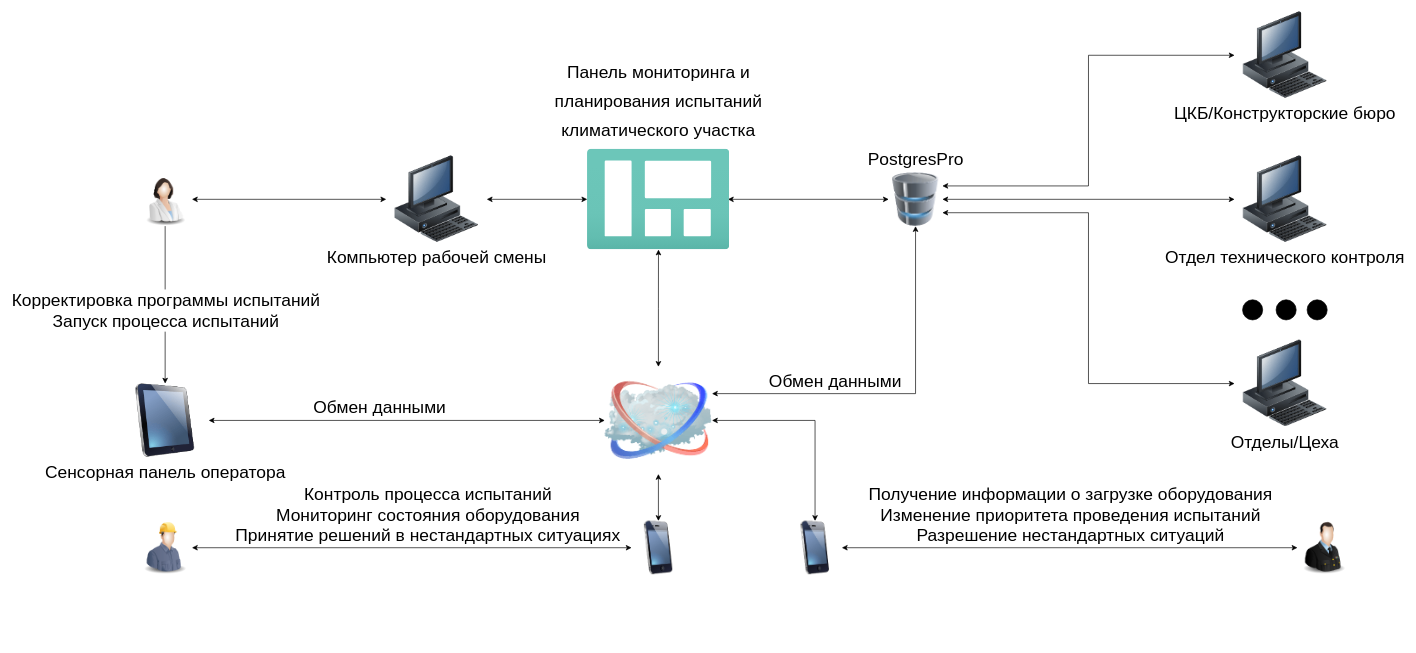
The diagram is 1416 pixels wide and 653 high, and some of its shapes have lost their labels. Here are the shapes that lost their labels. From the top down, the centre of each, then its label:
point 165,199: Сотрудник дежурной смены
point 165,547: Наладчик технологического оборудования
point 1324,547: Начальник отдела
